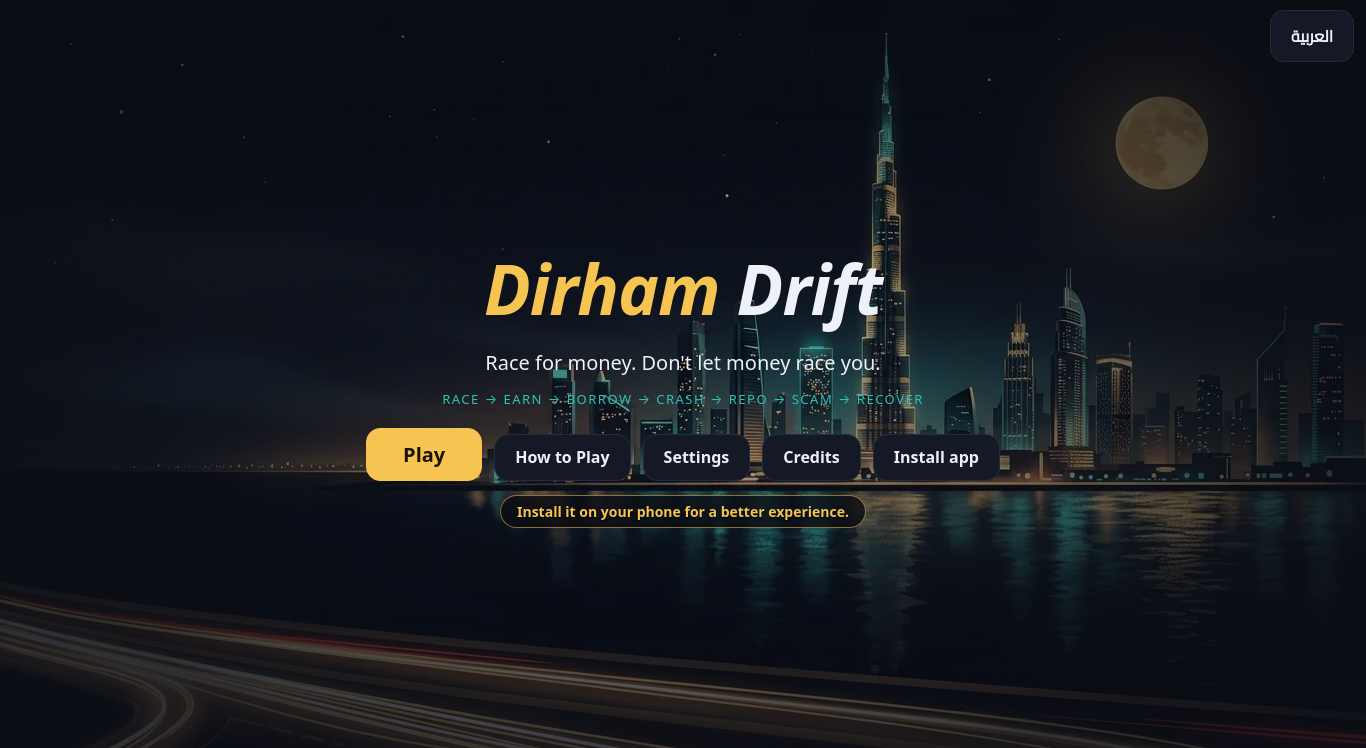
Test: Arabic toggle (FR-I18N-002) › flips menus right-to-left, shows Arabic text and remembers the choice
The width and height of the screenshot is (1366, 748).
Later steps or results of the test are not shown.
Click the button with test id "language-toggle". click: {"x": 1312, "y": 36}
box: [1270,10,1354,62]
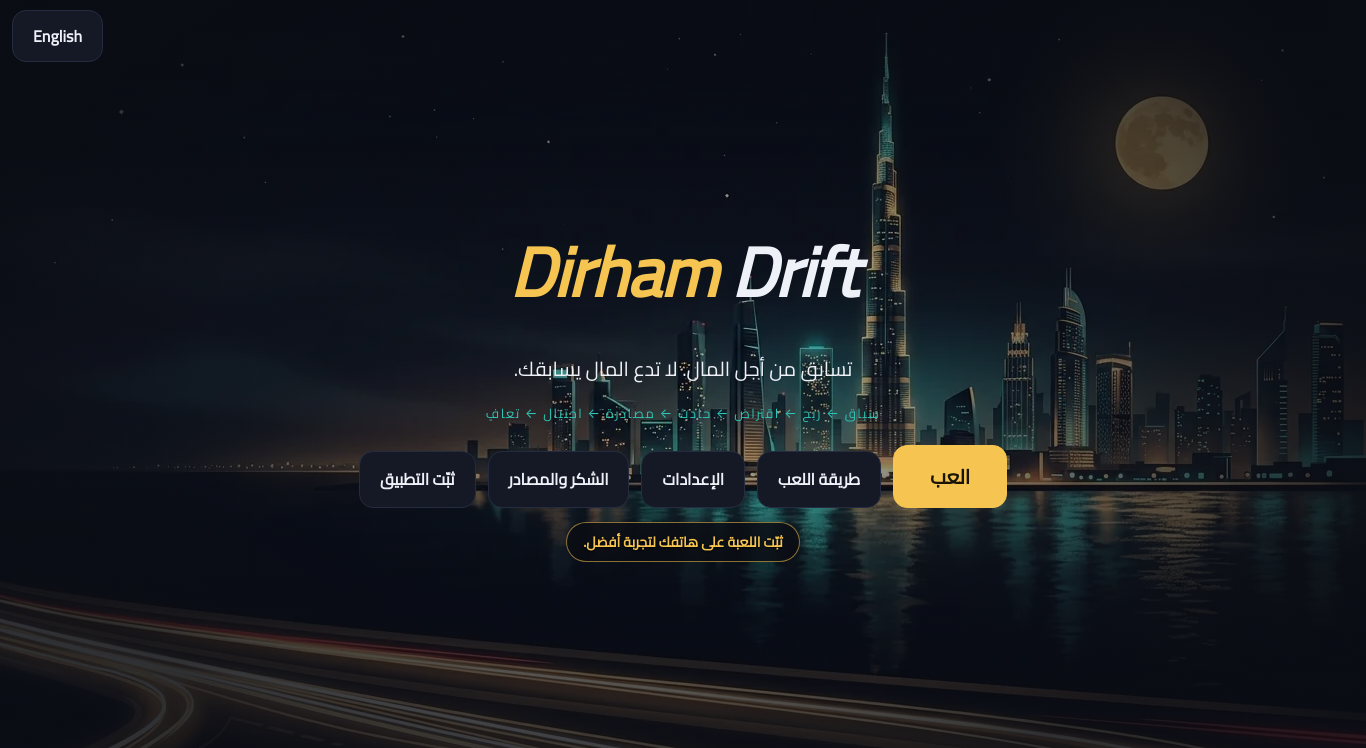
Now the button with test id "play" reads "العب", box [893,444,1007,508]
Click the button with test id "open-settings". click: {"x": 693, "y": 479}
box: [641,450,745,508]
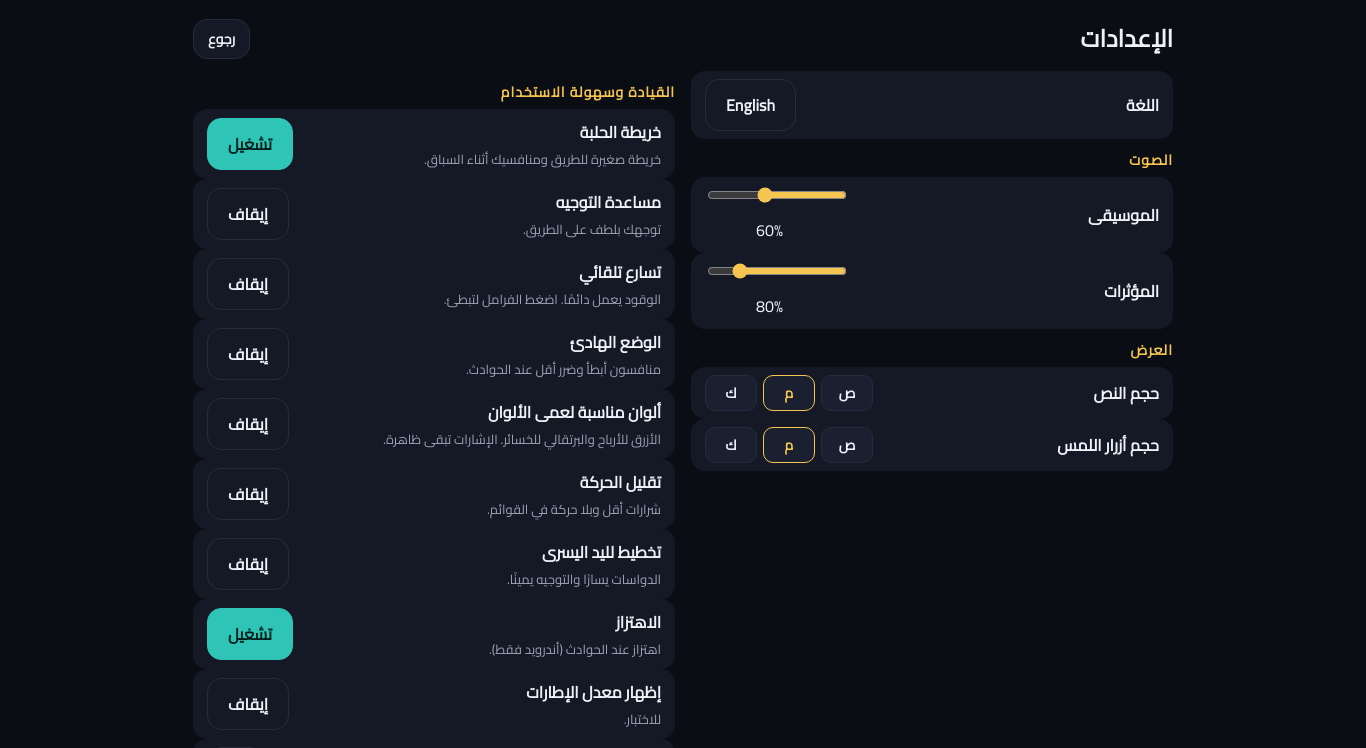
Now the element with test id "settings" shows "الإعدادات", box [1081,16,1173,61]
